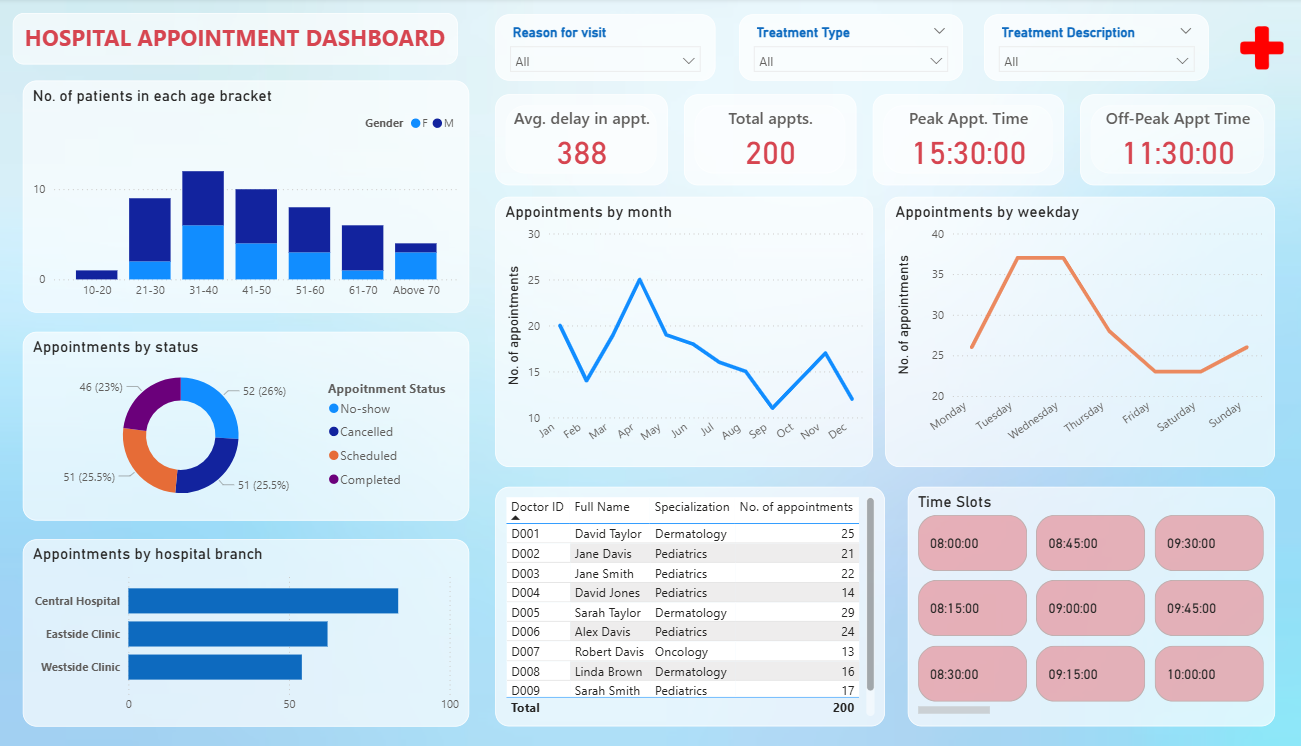

Layout of this report page (visuals, bound fields, positions):
{"tool":"powerbi","page":{"name":"Hospital Appt.","canvas":[1400,810],"ordinal":0},"visuals":[{"type":"textbox","box":[14.7,16.1,476.8,54.9],"z":0},{"type":"columnChart","title":"No. of patients in each age bracket","fields":{"Category":["patients.Age Bracket"],"Y":["patients.patient_id"],"Series":["patients.gender"]},"box":[25.4,88.4,478.1,249.1],"z":1000},{"type":"donutChart","title":"Appointments by status","fields":{"Category":["appointments.status"],"Y":["appointments.appointment_id"]},"box":[25.4,357.6,478.1,202.2],"z":2000},{"type":"cardVisual","title":"vdfvfv","fields":{"Data":["appointments.diff_regdate"]},"box":[531.7,103.1,184.8,97.8],"z":3000},{"type":"barChart","title":"Appointments by hospital branch","fields":{"Category":["doctors.hospital_branch"],"Y":["appointments.appointment_id"]},"box":[25.4,579.9,478.1,200.9],"z":4000},{"type":"tableEx","fields":{"Values":["doctors.doctor_id","doctors.Full Name","doctors.specialization","appointments.appointment_id"]},"box":[531.7,523.7,417.9,257.1],"z":5000},{"type":"lineChart","title":"Appointments by month","fields":{"Category":["appointments.Month"],"Y":["appointments.appointment_id"]},"box":[531.7,212.9,404.5,289.3],"z":6000},{"type":"lineChart","title":"Appointments by weekday","fields":{"Y":["appointments.appointment_id"],"Category":["Calendar.WeekdayName"]},"box":[949.6,212.9,417.9,289.3],"z":7000},{"type":"slicer","fields":{"Values":["appointments.reason_for_visit"]},"box":[531.7,17.4,235.7,71],"z":8000},{"type":"slicer","fields":{"Values":["treatments.treatment_type"]},"box":[792.9,17.4,239.7,71],"z":9000},{"type":"cardVisual","title":"vdfvfv","fields":{"Data":["appointments.appointment_id"]},"box":[733.9,103.1,184.8,97.8],"z":10000},{"type":"cardVisual","title":"vdfvfv","fields":{"Data":["appointments.Peak Appointment Time"]},"box":[936.2,103.1,204.9,97.8],"z":11000},{"type":"cardVisual","title":"vdfvfv","fields":{"Data":["appointments.OffPeak Appointment Time"]},"box":[1158.5,103.1,208.9,97.8],"z":12000},{"type":"image","box":[1321.9,25.4,62.9,56.3],"z":13000},{"type":"slicer","fields":{"Values":["treatments.description"]},"box":[1055.4,17.4,241.1,71],"z":14000},{"type":"advancedSlicerVisual","title":"Time Slots","fields":{"Values":["appointments.appointment_time"]},"box":[973.7,523.7,393.8,257.1],"z":15000}]}

Visuals, with their boxes in screenshot pixels (x1, y1, x2, y2), scaled from the page's 1400x810 canvas onto the 1301x746 screenshot:
textbox: [left=14, top=15, right=457, bottom=65]
"No. of patients in each age bracket" columnChart: [left=24, top=81, right=468, bottom=311]
"Appointments by status" donutChart: [left=24, top=329, right=468, bottom=516]
"vdfvfv" cardVisual: [left=494, top=95, right=666, bottom=185]
"Appointments by hospital branch" barChart: [left=24, top=534, right=468, bottom=719]
tableEx - doctors.doctor_id x doctors.Full Name: [left=494, top=482, right=882, bottom=719]
"Appointments by month" lineChart: [left=494, top=196, right=870, bottom=463]
"Appointments by weekday" lineChart: [left=882, top=196, right=1271, bottom=463]
slicer - appointments.reason_for_visit: [left=494, top=16, right=713, bottom=81]
slicer - treatments.treatment_type: [left=737, top=16, right=960, bottom=81]
"vdfvfv" cardVisual: [left=682, top=95, right=854, bottom=185]
"vdfvfv" cardVisual: [left=870, top=95, right=1060, bottom=185]
"vdfvfv" cardVisual: [left=1077, top=95, right=1271, bottom=185]
image: [left=1228, top=23, right=1287, bottom=75]
slicer - treatments.description: [left=981, top=16, right=1205, bottom=81]
"Time Slots" advancedSlicerVisual: [left=905, top=482, right=1271, bottom=719]
